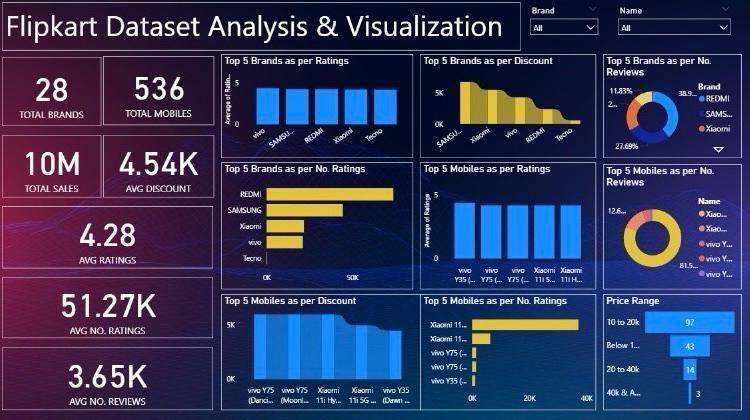

What the dashboard file says about the page in this screenshot:
{"tool":"powerbi","page":{"name":"Page 1","canvas":[1280,720],"ordinal":0},"visuals":[{"type":"textbox","box":[316.8,13,637.9,76.3],"z":0},{"type":"card","fields":{"Values":["Flipkart.total sales"]},"box":[23,100.8,203,106.6],"z":1000},{"type":"card","fields":{"Values":["Flipkart.total brands"]},"box":[23,236.2,203,106.6],"z":2000},{"type":"card","fields":{"Values":["Sum(Flipkart.total discount)"]},"box":[254.9,236.2,210.2,106.6],"z":3000},{"type":"card","fields":{"Values":["Flipkart.total mobiles"]},"box":[254.9,100.8,211.7,106.6],"z":4000},{"type":"card","fields":{"Values":["Flipkart.average of rating"]},"box":[23,481,442.1,96.5],"z":5000},{"type":"card","fields":{"Values":["Flipkart.AVERAGE NO. OF RATINGS"]},"box":[23,360,442.1,110.9],"z":6000},{"type":"card","fields":{"Values":["Flipkart.AVERAGE NO OF REVIEWS"]},"box":[23,599,442.1,102.2],"z":7000},{"type":"columnChart","title":"TOP 5 BRAND AS PER NO.RATING","fields":{"Category":["Flipkart.Brand"],"Y":["Flipkart.AVERAGE NO. OF RATINGS"]},"box":[491,109.4,247.7,161.3],"z":8000},{"type":"donutChart","title":"TOP 5 BRAND AS PER DISCOUNT","fields":{"Y":["Sum(Flipkart.Discount in per)"],"Category":["Flipkart.Brand"]},"box":[1018.1,109.4,244.8,164.2],"z":9000},{"type":"clusteredBarChart","title":"TOP 5 BRANDS AS PER NO OF REVIEWS","fields":{"Category":["Flipkart.Brand"],"Y":["Sum(Flipkart.No_of_ratings)","Sum(Flipkart.No_of_reviews)"]},"box":[491,303.8,247.7,167],"z":10000},{"type":"barChart","title":"TOP 5 MOBILE AS PER REVIEW","fields":{"Y":["Flipkart.AVERAGE NO OF REVIEWS"],"Category":["Flipkart.Brand"]},"box":[760.3,110.9,243.4,159.8],"z":11000},{"type":"pieChart","title":"TOP 5  BRAND AS PER RATING","fields":{"Y":["Sum(Flipkart.No_of_ratings)"],"Category":["Flipkart.Brand"]},"box":[491,496.8,247.7,171.4],"z":12000},{"type":"stackedAreaChart","title":"TOP 5 BRAND AS PER DISCOUNT","fields":{"Category":["Flipkart.Brand"],"Y":["Sum(Flipkart.Discount in per)"]},"box":[760.3,496.8,247.7,171.4],"z":13000},{"type":"hundredPercentStackedColumnChart","title":"TOP 5 MOBILES AS PER RATINGS","fields":{"Category":["Flipkart.Name"],"Y":["Flipkart.AVERAGE NO. OF RATINGS"]},"box":[1018.1,305.3,244.8,159.8],"z":13001},{"type":"clusteredColumnChart","title":"TOP 5 MOBILES AS PER NO. RATING","fields":{"Category":["Flipkart.Name"],"Y":["Flipkart.average of rating"]},"box":[756,303.8,247.7,161.3],"z":13002},{"type":"funnel","title":"TOP 5 BRAND AS PER DISCOUNT","fields":{"Category":["Flipkart.PRICE RANGE"],"Y":["CountNonNull(Flipkart.Brand)"]},"box":[1018.1,496.8,247.7,171.4],"z":13003}]}

Visuals, with their boxes in screenshot pixels (x1, y1, x2, y2), scaled from the page's 1280x720 canvas onto the 750x420 screenshot:
textbox: l=186, t=8, r=559, b=52
card - Flipkart.total sales: l=13, t=59, r=132, b=121
card - Flipkart.total brands: l=13, t=138, r=132, b=200
card - Sum(Flipkart.total discount): l=149, t=138, r=273, b=200
card - Flipkart.total mobiles: l=149, t=59, r=273, b=121
card - Flipkart.average of rating: l=13, t=281, r=273, b=337
card - Flipkart.AVERAGE NO. OF RATINGS: l=13, t=210, r=273, b=275
card - Flipkart.AVERAGE NO OF REVIEWS: l=13, t=349, r=273, b=409
"TOP 5 BRAND AS PER NO.RATING" columnChart: l=288, t=64, r=433, b=158
"TOP 5 BRAND AS PER DISCOUNT" donutChart: l=597, t=64, r=740, b=160
"TOP 5 BRANDS AS PER NO OF REVIEWS" clusteredBarChart: l=288, t=177, r=433, b=275
"TOP 5 MOBILE AS PER REVIEW" barChart: l=445, t=65, r=588, b=158
"TOP 5  BRAND AS PER RATING" pieChart: l=288, t=290, r=433, b=390
"TOP 5 BRAND AS PER DISCOUNT" stackedAreaChart: l=445, t=290, r=591, b=390
"TOP 5 MOBILES AS PER RATINGS" hundredPercentStackedColumnChart: l=597, t=178, r=740, b=271
"TOP 5 MOBILES AS PER NO. RATING" clusteredColumnChart: l=443, t=177, r=588, b=271
"TOP 5 BRAND AS PER DISCOUNT" funnel: l=597, t=290, r=742, b=390
